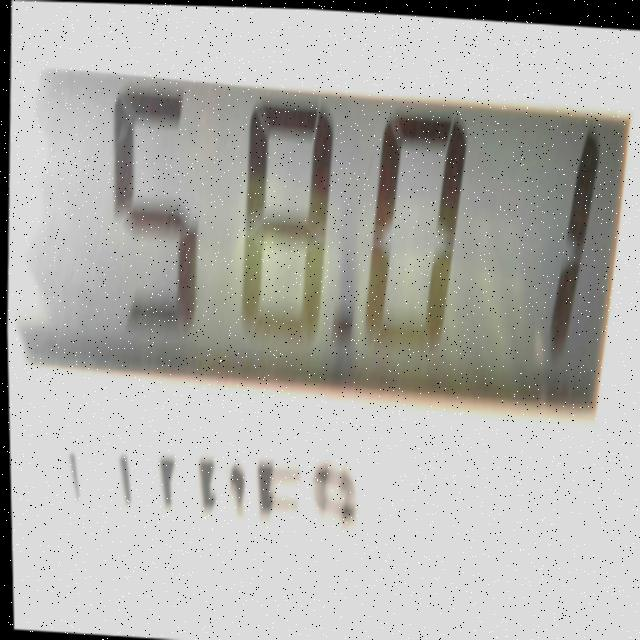.: (314, 294, 357, 393)
0: (351, 93, 489, 372)
1: (525, 98, 609, 389)
5: (86, 58, 221, 346)
8: (222, 91, 353, 368)
